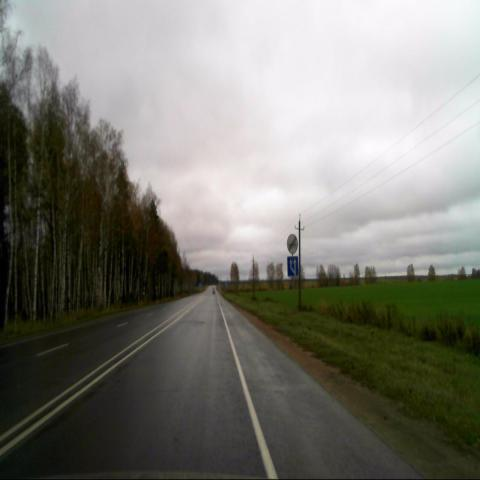3_21: (286, 233, 298, 254)
